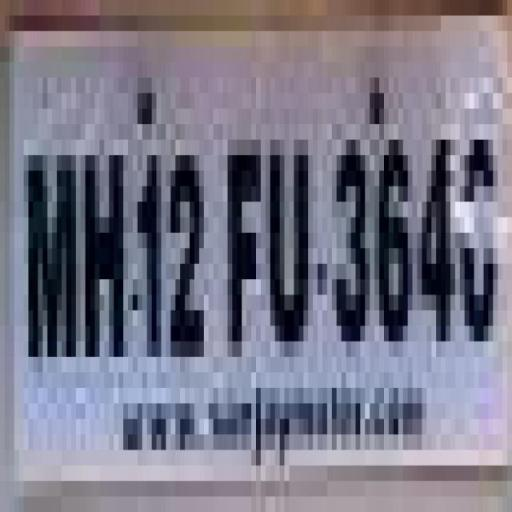number plate: (4, 16, 488, 481)
